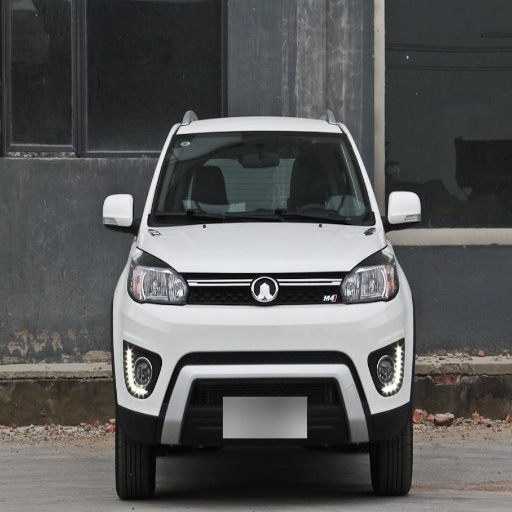front_bumper: (118, 271, 411, 446)
front_right_light: (127, 252, 189, 304)
hood: (138, 223, 384, 275)
left_mirror: (385, 191, 422, 231)
